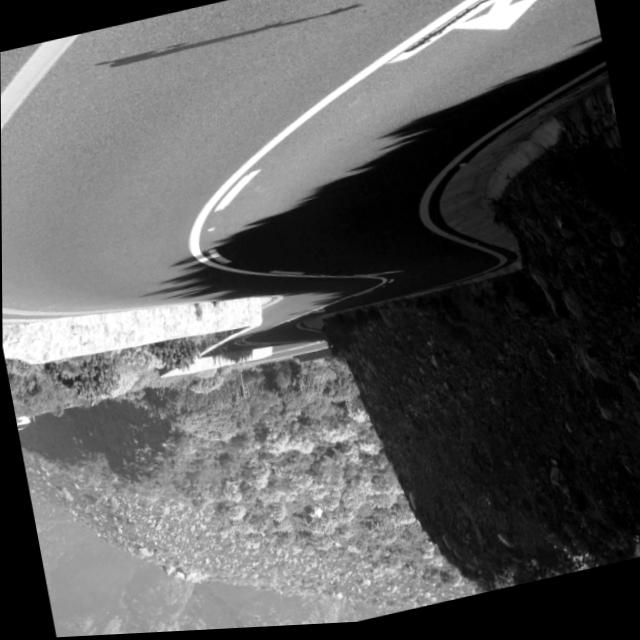cleat: (0, 0, 640, 609)
